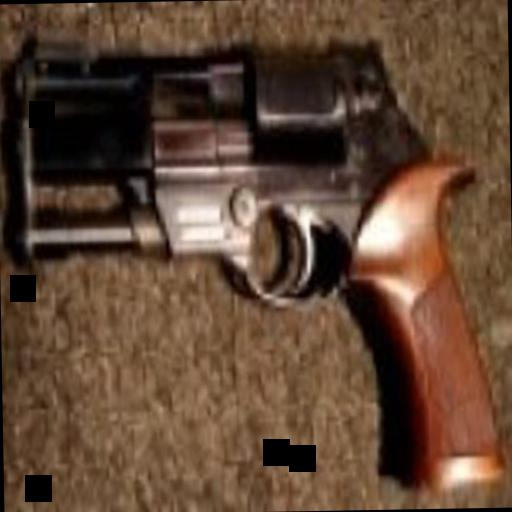Handgun: (11, 24, 505, 493)
